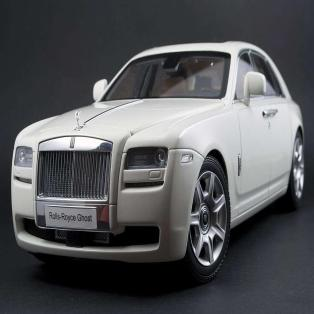Auto: (11, 39, 305, 287)
